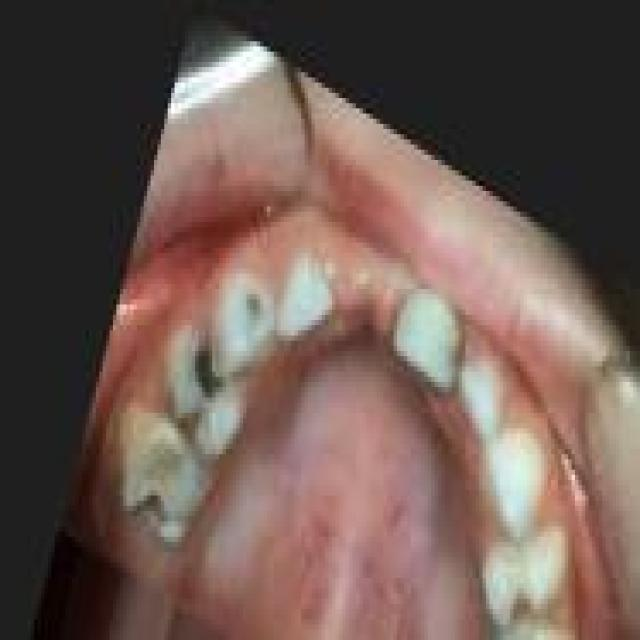caries: (132, 477, 178, 542), (188, 335, 228, 409), (234, 280, 276, 344)
